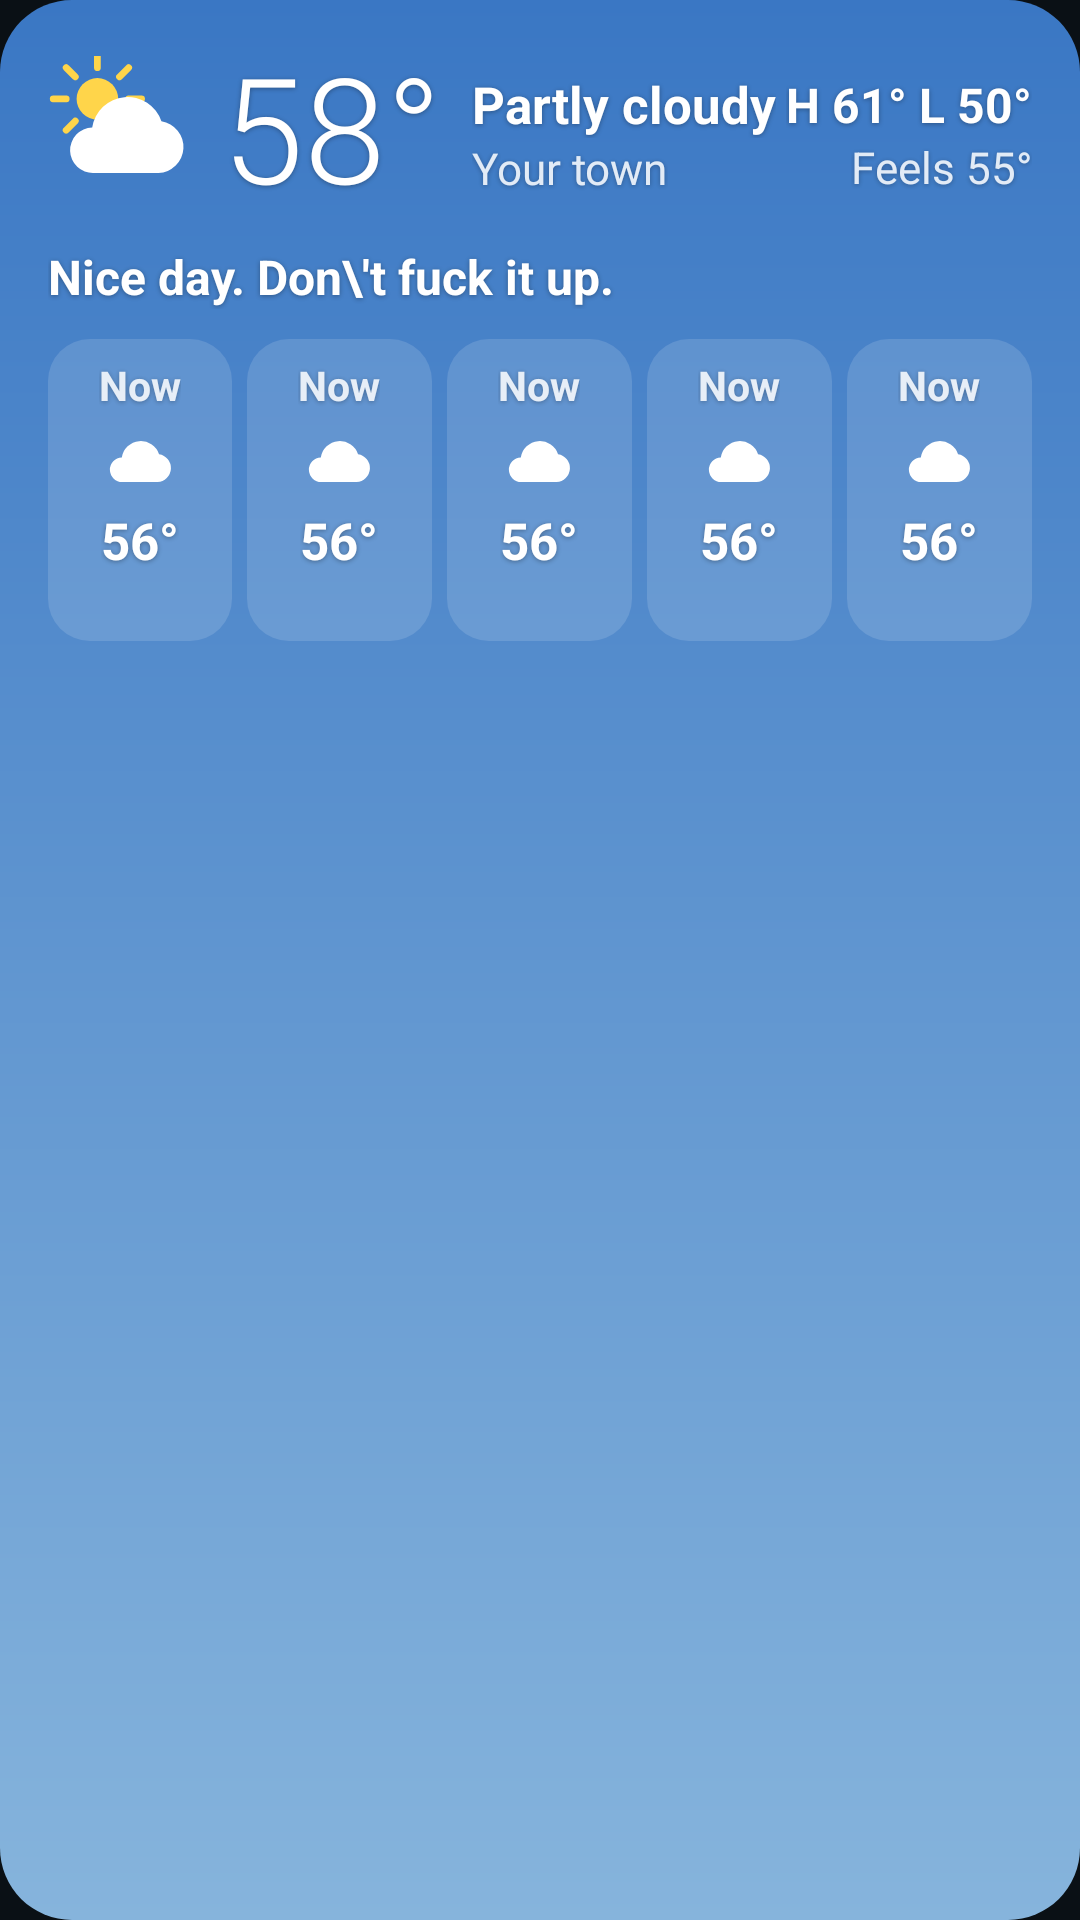

Screen size 1080*1920. Icon name, then its center in pixels as (x=x, y=y):
wi cloud: (x=140, y=461), (x=339, y=461), (x=539, y=461), (x=739, y=461), (x=939, y=461)
wi pcloud: (x=116, y=114)
